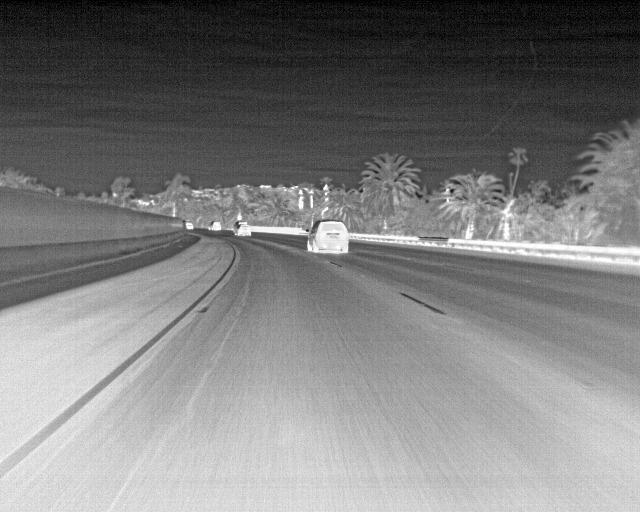car: (306, 219, 349, 254), (233, 220, 251, 238), (206, 220, 222, 233), (184, 219, 196, 231)
